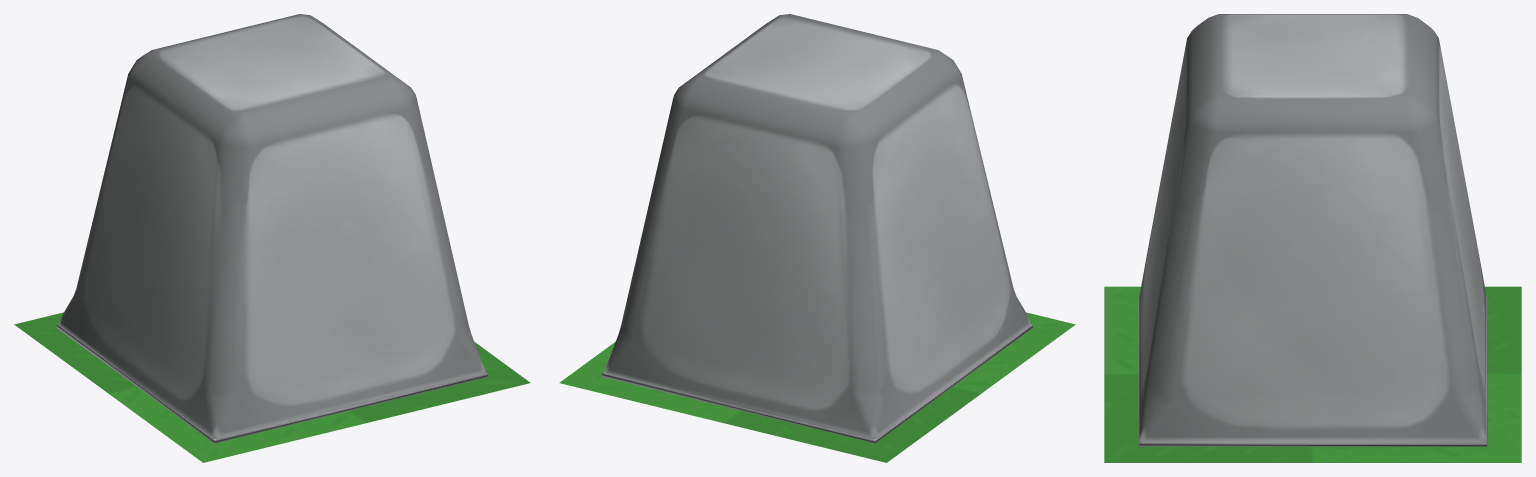
Rendered from pilar.gltf.
3 views of the same model, side by side, from view 1: azimuth 30°, elevation 25°; view 2: azimuth 150°, elevation 25°; view 3: azimuth 270°, elevation 25° (orthographic). The views are drawn at different scales.
Parts seen in each view (by area): view 1: pillar_Cube.001, plane_Plane; view 2: pillar_Cube.001, plane_Plane; view 3: pillar_Cube.001, plane_Plane.
Part boxes in pixels (x1,y1,x2,y2): pillar_Cube.001: (56,14,488,443); plane_Plane: (14,312,530,462); pillar_Cube.001: (601,14,1033,443); plane_Plane: (559,312,1075,462); pillar_Cube.001: (1138,14,1487,446); plane_Plane: (1104,286,1521,462).
Bounding box in the file's own units: 2.4 × 2.03 × 2.4.
2 materials, 2 textured.
